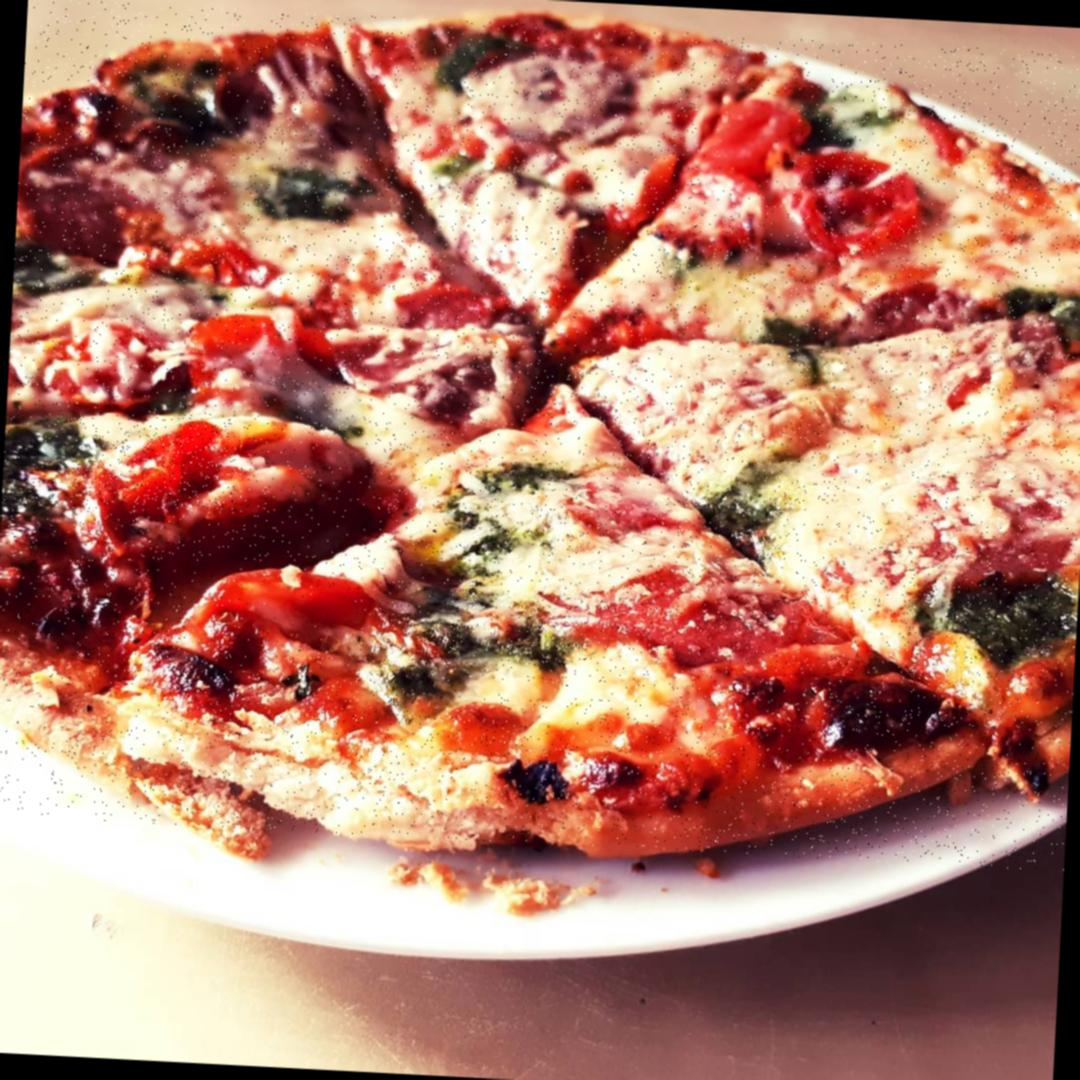Peppers: (180, 558, 379, 650), (75, 412, 242, 514), (790, 146, 928, 252), (700, 90, 796, 194), (165, 304, 309, 362)
Pizza: (0, 0, 1080, 871)
